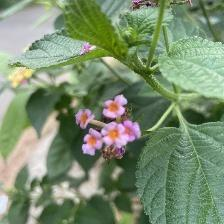common lanthana: (74, 94, 141, 163)
